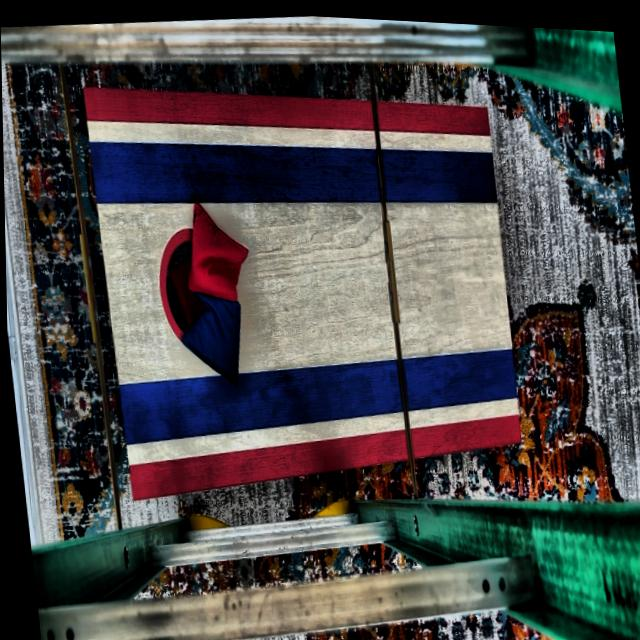blue-bean-bag: (175, 284, 247, 388)
blue-bean-bag-in-hole: (164, 273, 187, 332)
board: (89, 88, 519, 472)
hole: (152, 219, 235, 355)
red-bean-bag: (179, 194, 253, 304)
red-bean-bag-in-hole: (165, 248, 207, 329)
